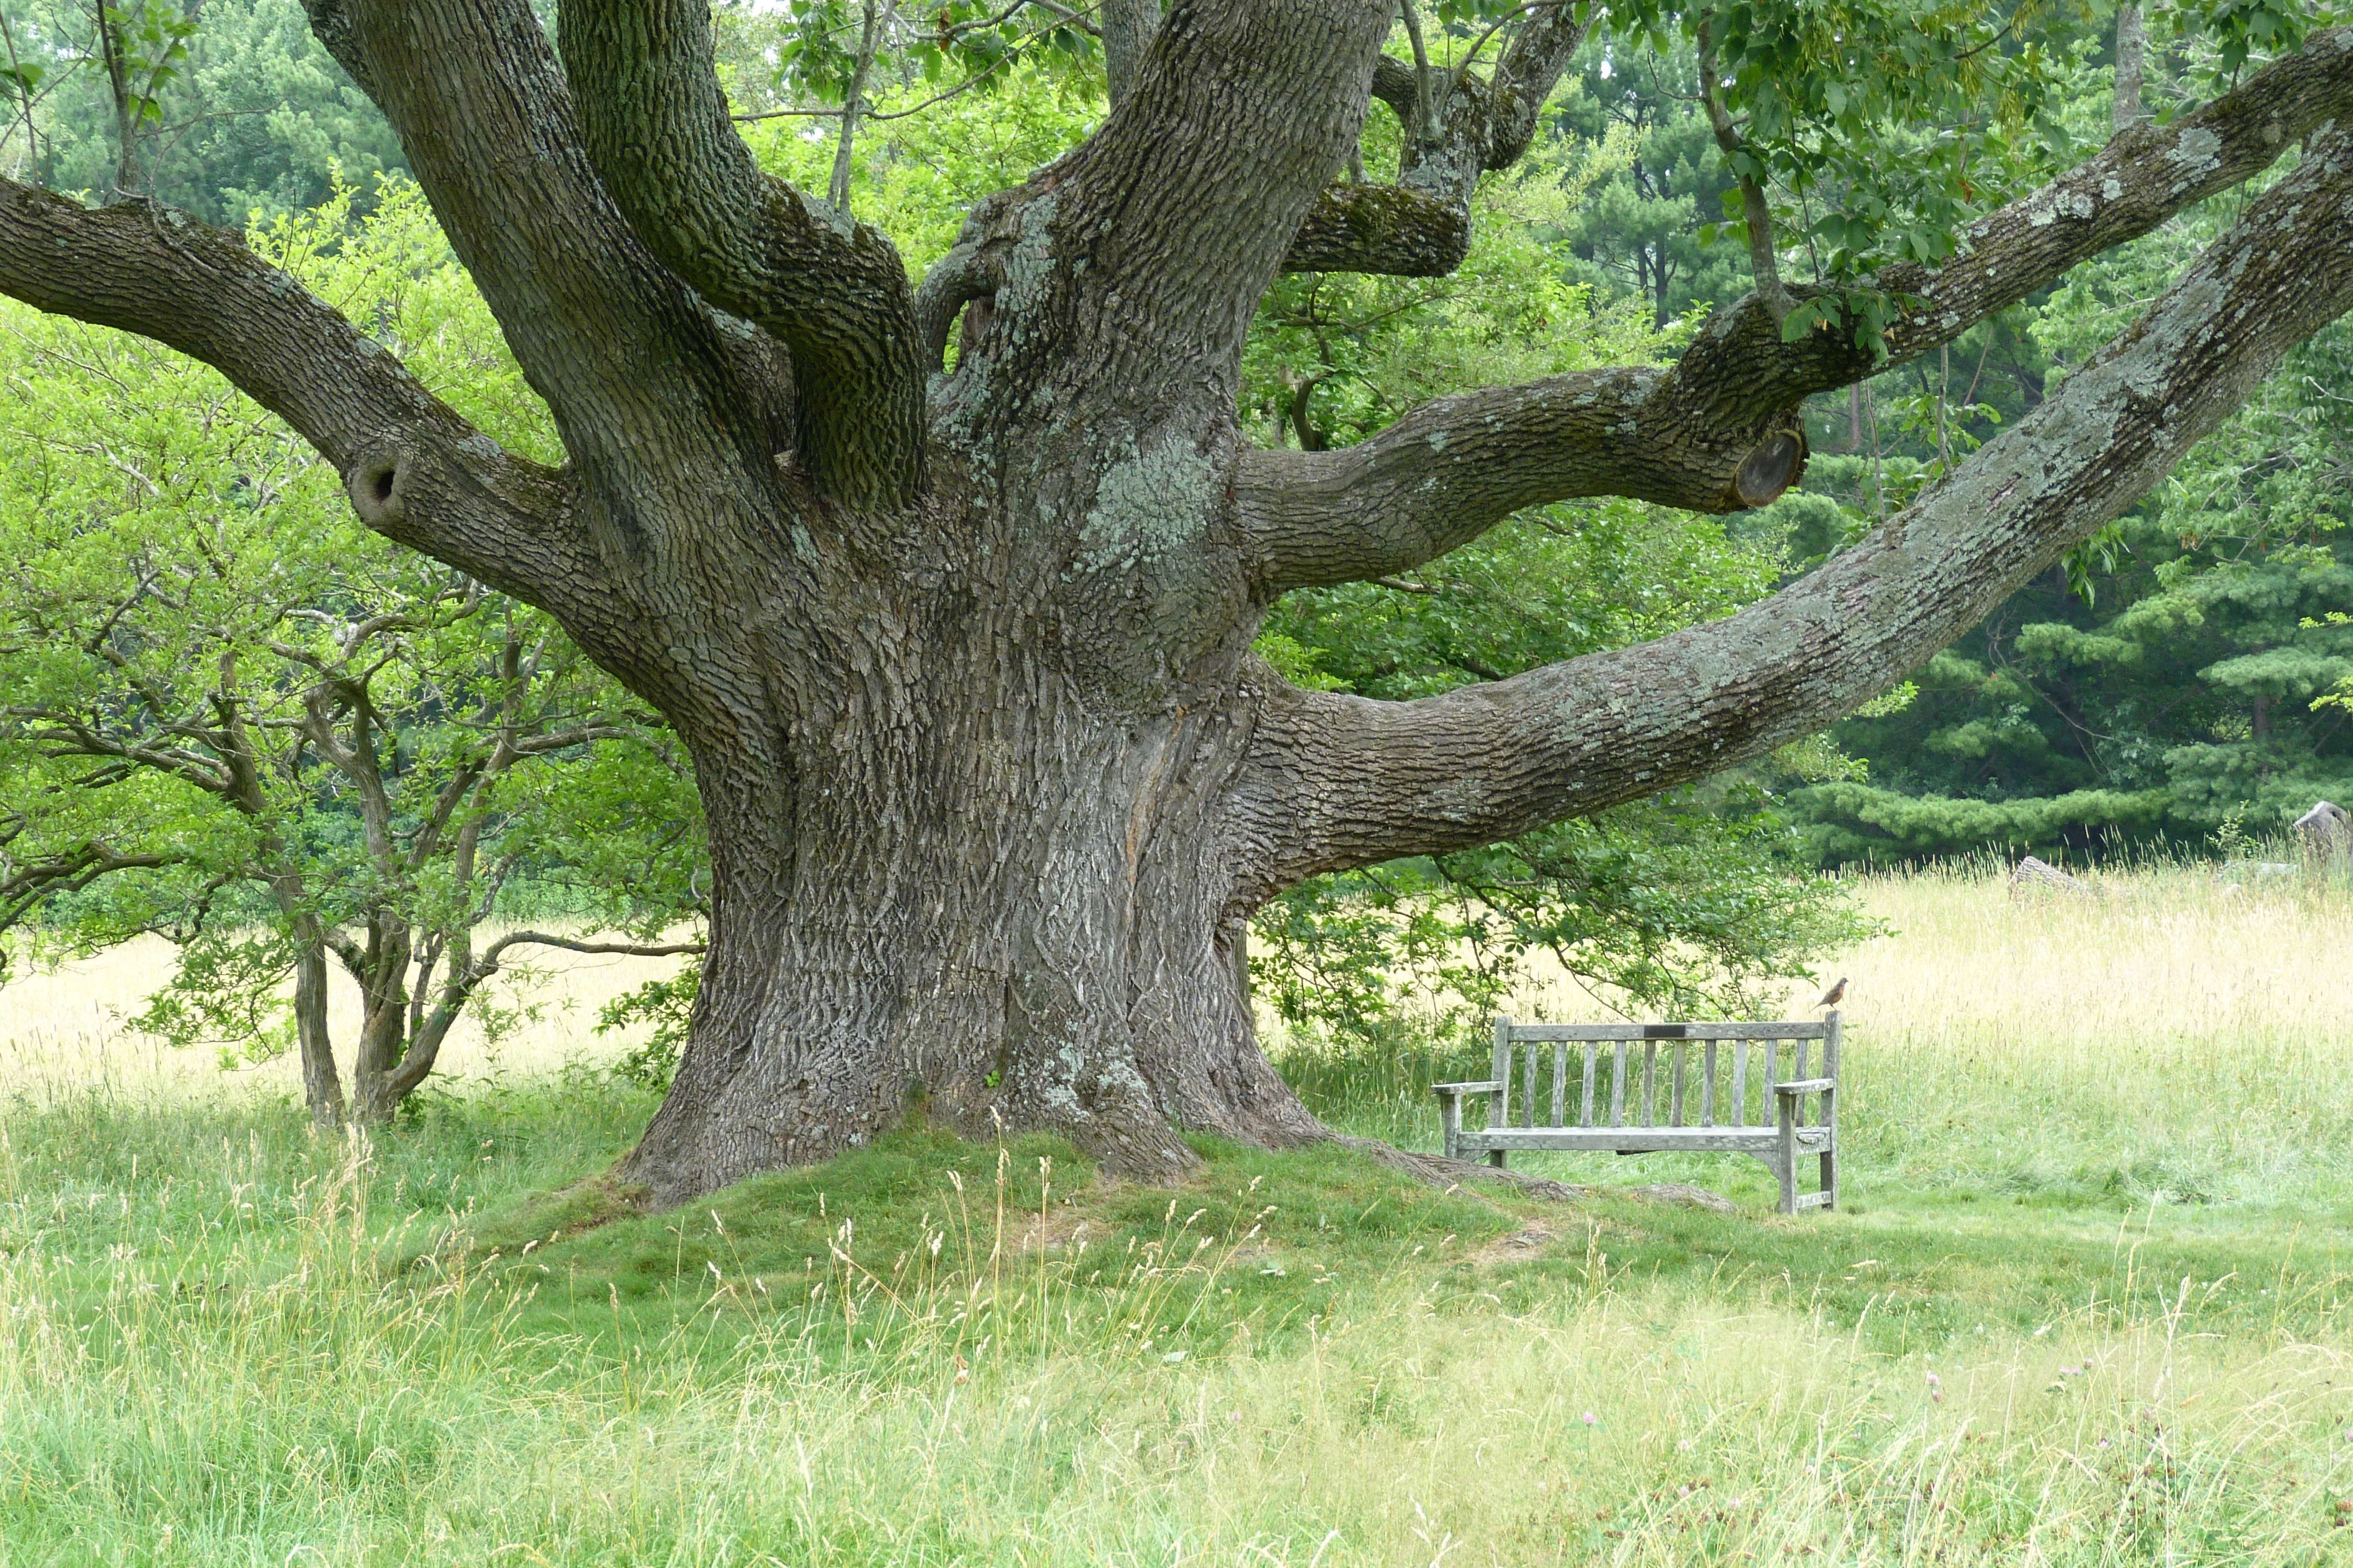grass: (23, 1129, 2348, 1559)
tree: (577, 248, 1531, 1237), (282, 915, 481, 1136)
